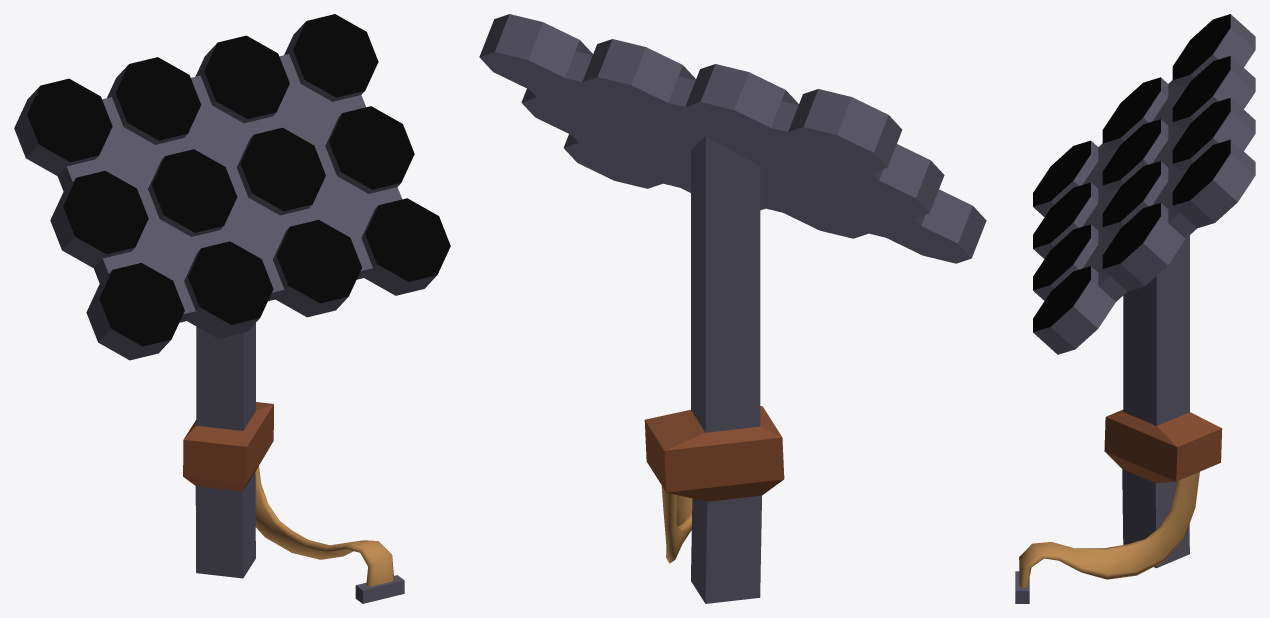
File: Solarpanel.fbx
3 renders of one model, left to right at view 1: azimuth 30°, elevation 25°; view 2: azimuth 150°, elevation 25°; view 3: azimuth 270°, elevation 25°, orthographic. The views are drawn at different scales.
Visible parts, largest first — view 1: Solarpanel; view 2: Solarpanel; view 3: Solarpanel.
Part boxes in pixels (left/top/right/bottom): Solarpanel: left=14, top=14, right=450, bottom=603; Solarpanel: left=479, top=14, right=986, bottom=603; Solarpanel: left=1015, top=14, right=1255, bottom=603.
Size of the model in its own units: 55.37 by 75.96 by 35.11.
